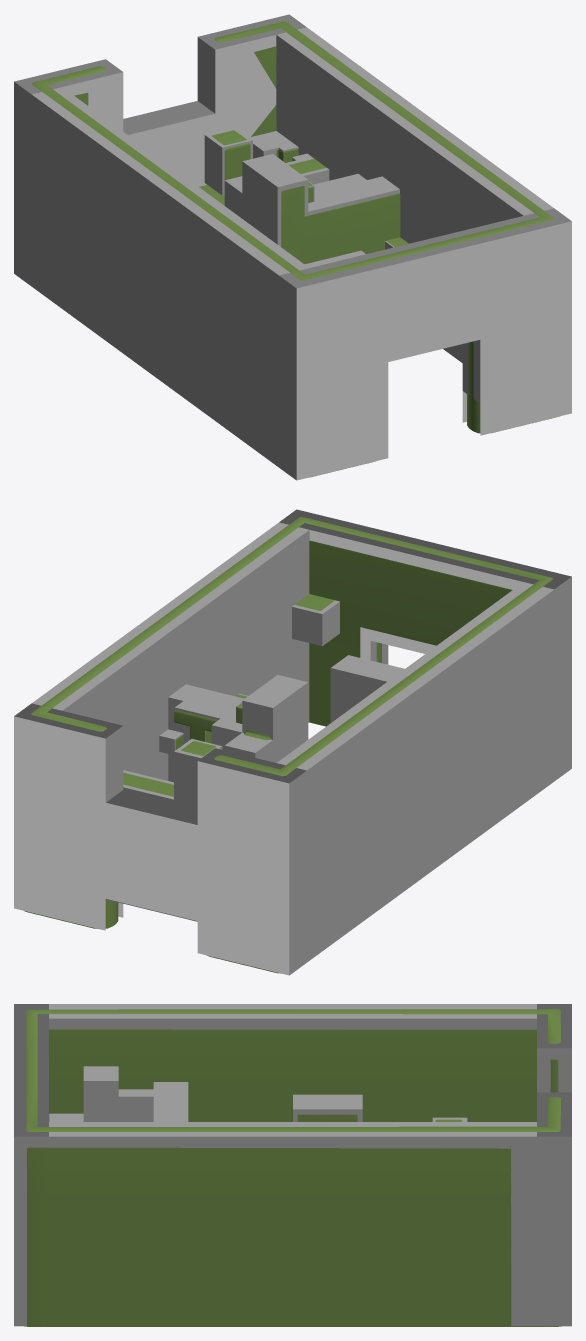
File: Hedges 1.fbx
3 renders of one model, top to bottom at view 1: azimuth 30°, elevation 25°; view 2: azimuth 150°, elevation 25°; view 3: azimuth 270°, elevation 25°, orthographic.
Visible parts, largest first — view 1: Hedge_Maze_Obstacles:polySurface1, Large_Hedge, T_Hedge, pCube1; view 2: Hedge_Maze_Obstacles:polySurface1, Large_Hedge, T_Hedge; view 3: Large_Hedge, Hedge_Maze_Obstacles:polySurface1, T_Hedge.
Part boxes in pixels (left/top/right/bottom): Hedge_Maze_Obstacles:polySurface1: left=14, top=14, right=571, bottom=480; Large_Hedge: left=31, top=21, right=559, bottom=477; T_Hedge: left=199, top=158, right=400, bottom=264; pCube1: left=212, top=130, right=250, bottom=180; Hedge_Maze_Obstacles:polySurface1: left=14, top=509, right=571, bottom=975; Large_Hedge: left=24, top=517, right=552, bottom=973; T_Hedge: left=123, top=710, right=270, bottom=796; Large_Hedge: left=24, top=1009, right=561, bottom=1326; Hedge_Maze_Obstacles:polySurface1: left=14, top=1004, right=571, bottom=1326; T_Hedge: left=292, top=1102, right=357, bottom=1121.
Bounding box in the file's own units: 180 × 121 × 320.
